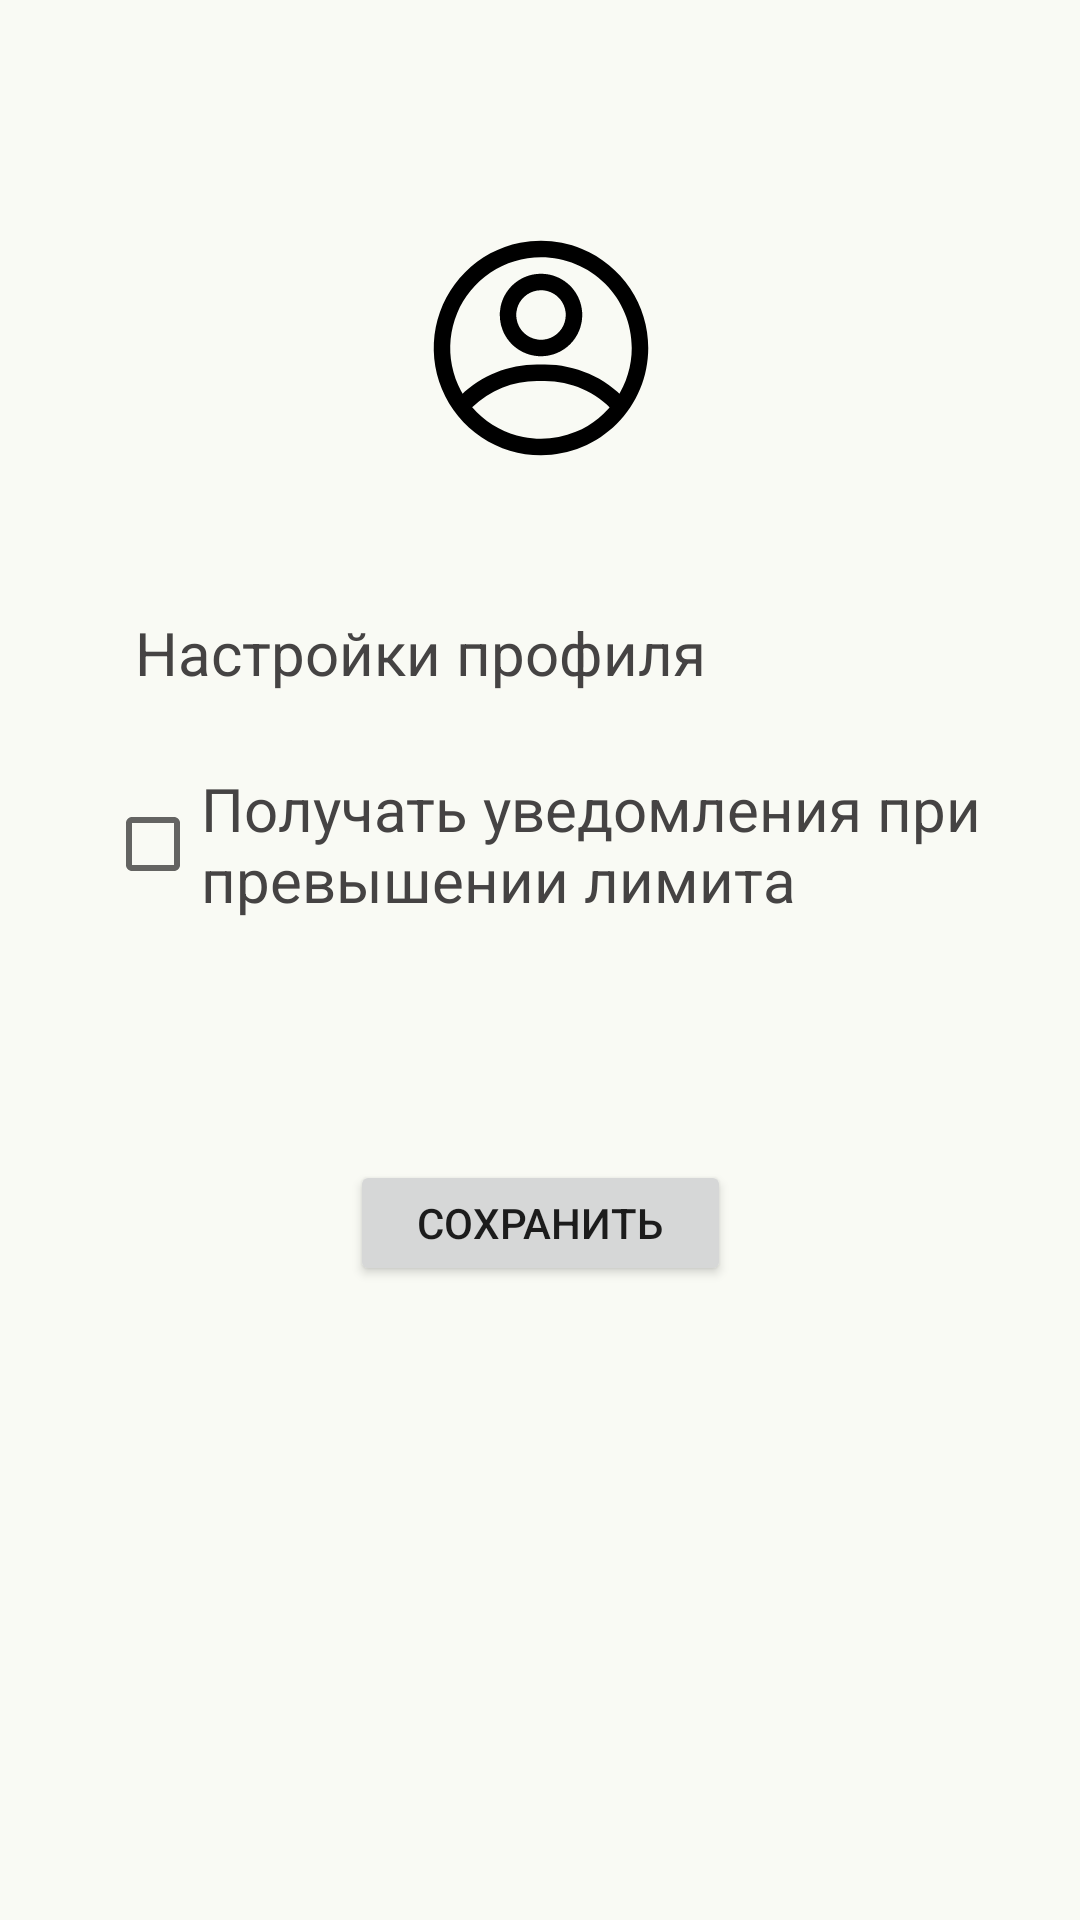

Named icons in this screenshot (1080w x 1920h) and their bounding boxes, (x1, y1, x2, y2):
profile: (433, 240, 649, 456)
